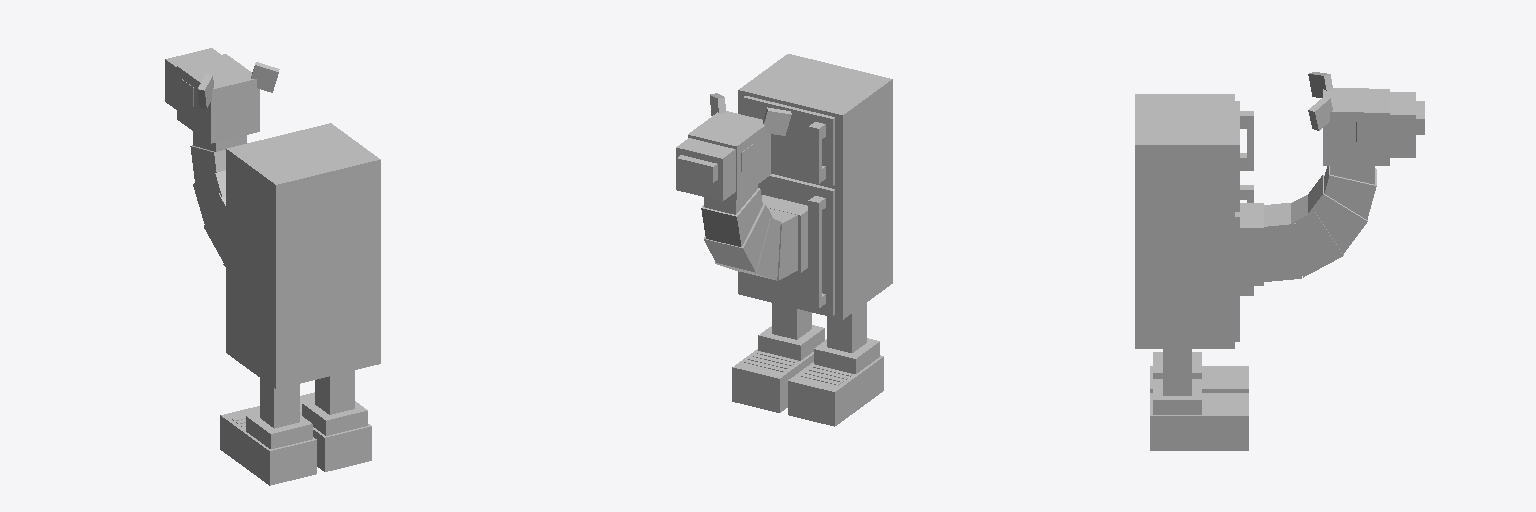
File: Frigo Camelo.obj
The picture shows the model from 3 angles: view 1: azimuth 30°, elevation 25°; view 2: azimuth 150°, elevation 25°; view 3: azimuth 270°, elevation 25°; orthographic projection.
Parts seen in each view (by area): view 1: Cube1, Cube0031, Cube0011, Cube0021; view 2: Cube1, Cube0031, Cube0011, Cube0021; view 3: Cube1, Cube0031, Cube0021, Cube0011.
Boxes of the visible parts, x1=… form: Cube1: x1=226, y1=123, x2=380, y2=388; Cube0031: x1=165, y1=48, x2=279, y2=266; Cube0011: x1=220, y1=378, x2=316, y2=485; Cube0021: x1=300, y1=370, x2=371, y2=471; Cube1: x1=738, y1=54, x2=892, y2=319; Cube0031: x1=676, y1=93, x2=807, y2=280; Cube0011: x1=788, y1=303, x2=883, y2=426; Cube0021: x1=732, y1=303, x2=824, y2=412; Cube1: x1=1135, y1=94, x2=1253, y2=348; Cube0031: x1=1240, y1=72, x2=1424, y2=285; Cube0021: x1=1150, y1=349, x2=1248, y2=450; Cube0011: x1=1150, y1=352, x2=1248, y2=392.
Size of the model in its own units: 2.92 by 9.03 by 6.98.